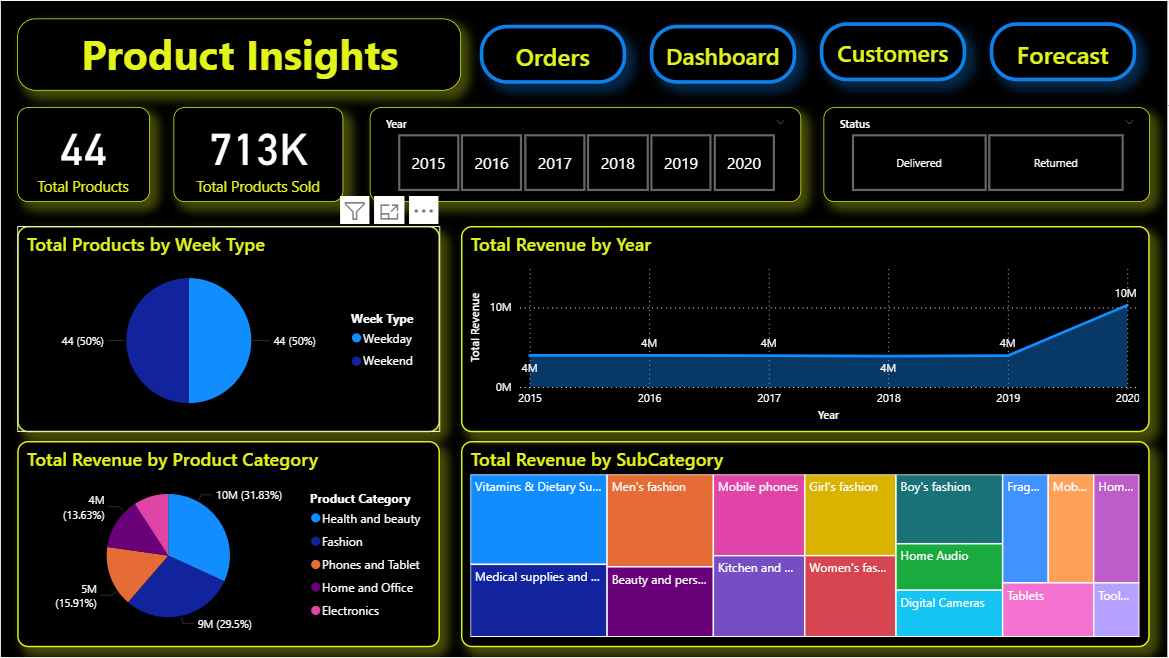

The dashboard page shown, as its layout file describes it:
{"tool":"powerbi","page":{"name":"Page 3","canvas":[1280,720],"ordinal":2},"visuals":[{"type":"textbox","title":"Product Insights","box":[17.8,19.2,487.1,79.6],"z":0},{"type":"slicer","fields":{"Values":["DateTable.Year"]},"box":[404.8,116.6,473.4,104.3],"z":1000},{"type":"slicer","fields":{"Values":["Flipkart Sales Dataset.Status"]},"box":[902.9,116.6,358.1,104.3],"z":2000},{"type":"card","fields":{"Values":["Flipkart Sales Dataset.Total Products Sold"]},"box":[189.4,116.6,186.6,104.3],"z":3000},{"type":"card","fields":{"Values":["Flipkart Sales Dataset.Total Products"]},"box":[17.8,116.6,145.5,104.3],"z":4000},{"type":"pieChart","fields":{"Category":["DateTable.Week Type"],"Y":["Flipkart Sales Dataset.Total Products"]},"box":[17.8,247,463.8,226.4],"z":5000},{"type":"pieChart","fields":{"Category":["Flipkart Sales Dataset.Product Category"],"Y":["Flipkart Sales Dataset.Total Revenue"]},"box":[17.8,483,463.8,226.4],"z":6000},{"type":"treemap","fields":{"Values":["Flipkart Sales Dataset.Total Revenue"],"Group":["Flipkart Sales Dataset.SubCategory"]},"box":[505,483,756.1,226.4],"z":7000},{"type":"areaChart","fields":{"Y":["Flipkart Sales Dataset.Total Revenue"],"Category":["DateTable.Year"]},"box":[505,247,756.1,226.4],"z":8000},{"type":"actionButton","box":[525.6,26.1,160.5,64.5],"z":9000},{"type":"actionButton","box":[712.2,26.1,160.5,64.5],"z":10000},{"type":"actionButton","box":[898.8,23.3,160.5,64.5],"z":11000},{"type":"actionButton","box":[1085.4,23.3,160.5,64.5],"z":12000}]}

Visuals, with their boxes in screenshot pixels (x1, y1, x2, y2), scaled from the page's 1280x720 canvas onto the 1169x658 screenshot:
"Product Insights" textbox: 16/18/461/90
slicer - DateTable.Year: 370/107/802/202
slicer - Flipkart Sales Dataset.Status: 825/107/1152/202
card - Flipkart Sales Dataset.Total Products Sold: 173/107/343/202
card - Flipkart Sales Dataset.Total Products: 16/107/149/202
pieChart - DateTable.Week Type x Flipkart Sales Dataset.Total Products: 16/226/440/433
pieChart - Flipkart Sales Dataset.Product Category x Flipkart Sales Dataset.Total Revenue: 16/441/440/648
treemap - Flipkart Sales Dataset.Total Revenue x Flipkart Sales Dataset.SubCategory: 461/441/1152/648
areaChart - Flipkart Sales Dataset.Total Revenue x DateTable.Year: 461/226/1152/433
actionButton: 480/24/627/83
actionButton: 650/24/797/83
actionButton: 821/21/967/80
actionButton: 991/21/1138/80
